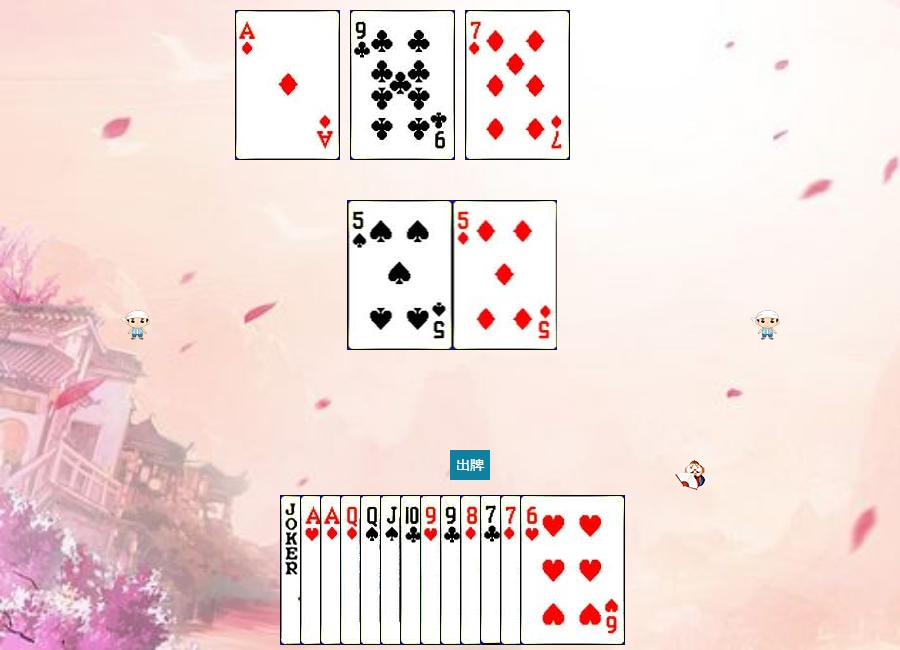10~2: (400, 495, 505, 645)
11~4: (380, 495, 485, 645)
12~1: (340, 495, 445, 645)
12~4: (360, 495, 465, 645)
14~1: (235, 10, 340, 160), (320, 495, 425, 645)
14~3: (300, 495, 405, 645)
17~3: (280, 495, 385, 645)
5~1: (453, 200, 558, 350)
5~4: (348, 200, 453, 350)
6~3: (520, 495, 625, 645)
7~1: (465, 10, 570, 160), (500, 495, 605, 645)
7~2: (480, 495, 585, 645)
8~1: (460, 495, 565, 645)
9~2: (350, 10, 455, 160), (440, 495, 545, 645)
9~3: (420, 495, 525, 645)
